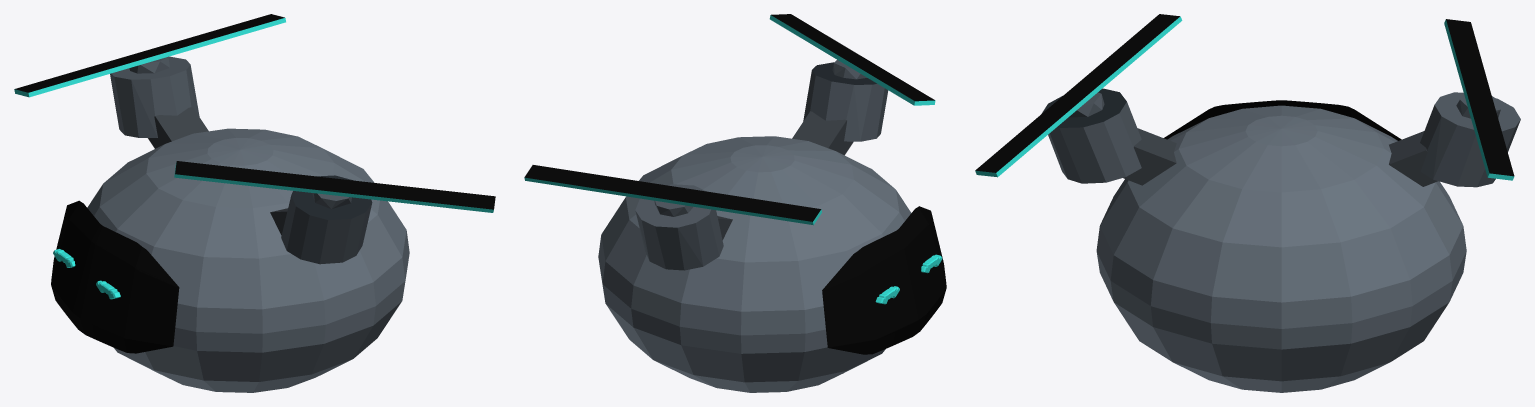
The model's file is AsistenteRob_unity.fbx.
The picture shows the model from 3 angles, left to right: view 1: azimuth 30°, elevation 25°; view 2: azimuth 150°, elevation 25°; view 3: azimuth 270°, elevation 25°; orthographic projection. The views are drawn at different scales.
Parts seen in each view (by area): view 1: Robot, Cara, HeliceDer, MotorDer, MotorIzq, HeliceIzq, BaseIzq; view 2: Robot, Cara, HeliceIzq, MotorIzq, MotorDer, HeliceDer, BaseDer; view 3: Robot, MotorDer, MotorIzq, HeliceDer, HeliceIzq, Cara, BaseDer, BaseIzq.
Boxes of the visible parts, left/top/right/bottom form: Robot: left=87, top=128, right=409, bottom=392; Cara: left=51, top=200, right=179, bottom=353; HeliceDer: left=174, top=161, right=495, bottom=212; MotorDer: left=281, top=175, right=372, bottom=264; MotorIzq: left=110, top=56, right=199, bottom=137; HeliceIzq: left=14, top=14, right=285, bottom=97; BaseIzq: left=148, top=107, right=208, bottom=148; Robot: left=598, top=136, right=911, bottom=392; Cara: left=822, top=206, right=946, bottom=354; HeliceIzq: left=524, top=165, right=821, bottom=225; MotorIzq: left=635, top=184, right=723, bottom=270; MotorDer: left=803, top=60, right=888, bottom=141; HeliceDer: left=769, top=14, right=935, bottom=105; BaseDer: left=792, top=111, right=853, bottom=155; Robot: left=1096, top=105, right=1466, bottom=392; MotorDer: left=1041, top=88, right=1141, bottom=183; MotorIzq: left=1420, top=92, right=1520, bottom=187; HeliceDer: left=975, top=14, right=1182, bottom=177; HeliceIzq: left=1444, top=19, right=1514, bottom=180; Cara: left=1164, top=100, right=1401, bottom=140; BaseDer: left=1123, top=128, right=1176, bottom=185; BaseIzq: left=1389, top=131, right=1437, bottom=186.
Size of the model in its own units: 2.03 by 1.69 by 2.83.
